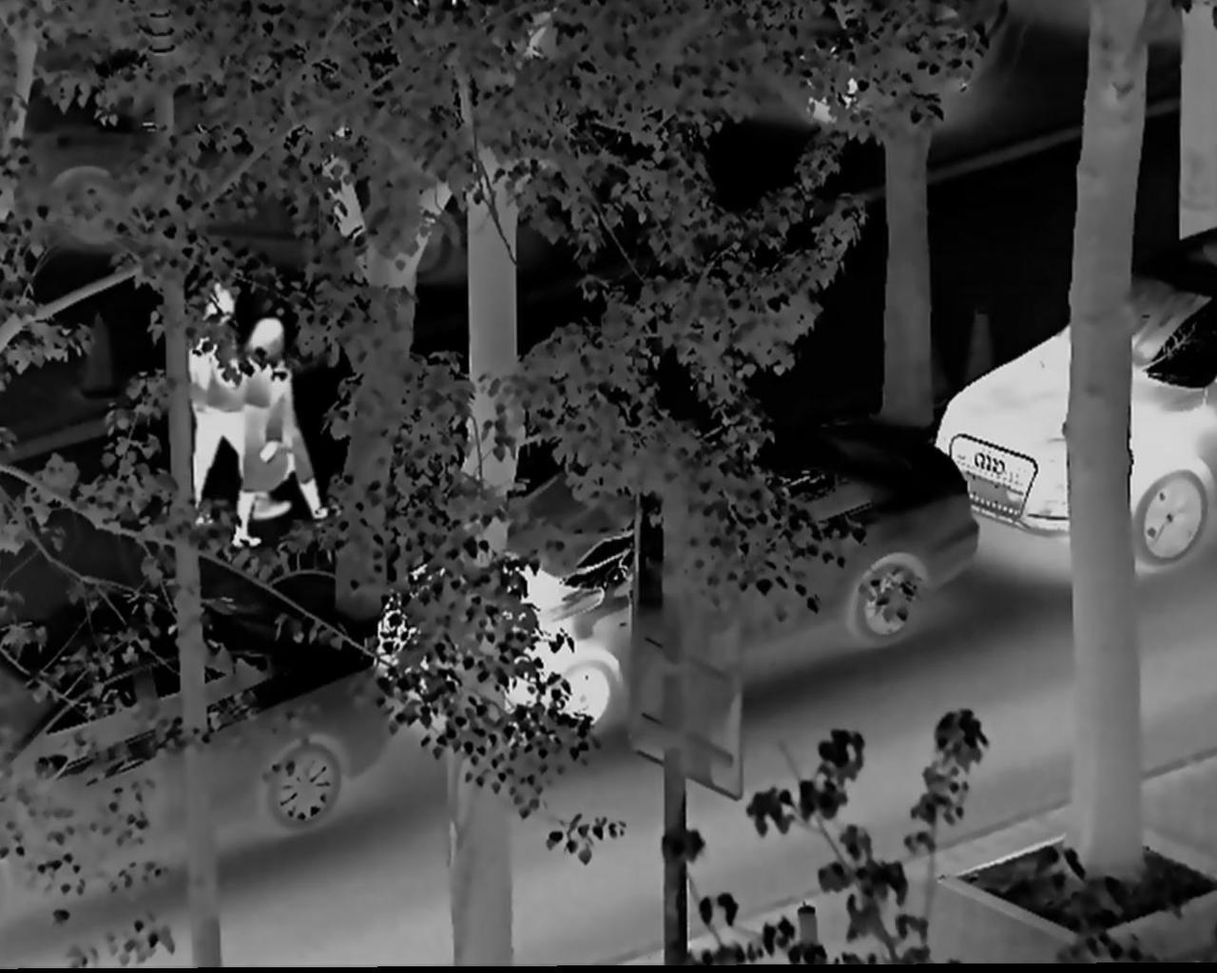person: (232, 307, 323, 555), (184, 269, 250, 523)
